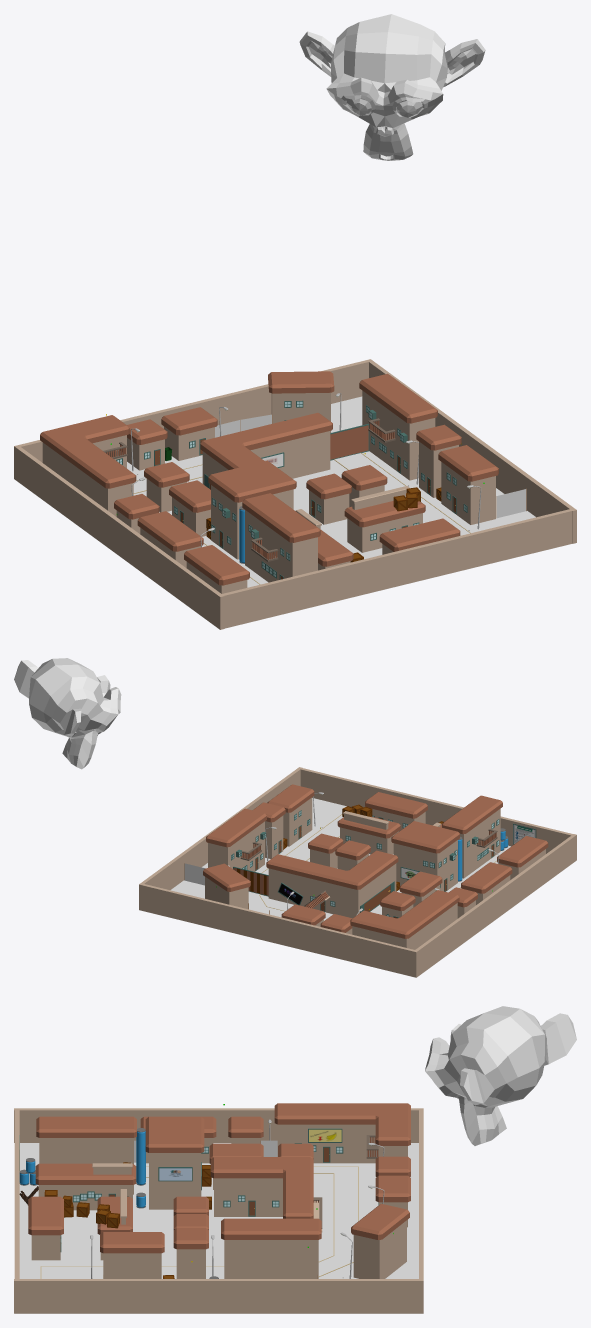
Rendered from Level_3.glb.
3 views of the same model, one above another, from view 1: azimuth 30°, elevation 25°; view 2: azimuth 150°, elevation 25°; view 3: azimuth 270°, elevation 25° (orthographic). The views are drawn at different scales.
Parts seen in each view (by area): view 1: Suzanne, Wall.001, Wall.003, Floor, Wall.002, Roof.004, Wall.004, Roof.012, Base.023, Base.016, Roof.009, Base.022 (+27 smaller); view 2: Wall.002, Suzanne, Wall.003, Wall.001, Roof.012, Roof.004, Floor, Wall.004, Base.010, Base.014, Roof.009, Base.023 (+24 smaller); view 3: Wall.004, Suzanne, Floor, Wall.003, Roof.004, Base.016, Roof.012, Base.013, Base.023, Base.004, Base.015, Roof.014 (+29 smaller).
Part boxes in pixels (x1,y1,x2,y2): Suzanne: (299,14,485,160); Wall.001: (217,508,576,629); Wall.003: (15,446,224,629); Floor: (14,396,572,629); Wall.002: (14,359,372,480); Roof.004: (40,415,136,488); Wall.004: (367,359,576,543); Roof.012: (200,412,332,469); Base.023: (245,510,317,582); Base.016: (362,390,435,480); Roof.009: (208,460,296,502); Base.022: (441,462,495,524); Wall.002: (139,883,418,977); Suzanne: (14,658,121,769); Wall.003: (414,834,576,975); Wall.001: (297,767,576,861); Roof.012: (266,850,398,889); Roof.004: (350,890,459,938); Floor: (140,798,574,977); Wall.004: (141,767,302,889); Base.010: (393,840,457,891); Base.014: (268,868,338,914); Roof.009: (391,821,459,853); Base.023: (460,809,500,878); Wall.004: (14,1279,422,1313); Suzanne: (425,1006,576,1145); Floor: (15,1143,423,1313); Wall.003: (14,1108,418,1142); Roof.004: (274,1103,410,1145); Base.016: (224,1240,318,1278); Roof.012: (210,1157,313,1218); Base.013: (214,1178,282,1216); Base.023: (39,1138,133,1194); Base.004: (277,1124,375,1163); Base.015: (353,1220,406,1278); Roof.014: (221,1218,321,1239).
Size of what is drawn, in the model's own units: 116 by 74.46 by 116.
32 materials, 6 textured.
